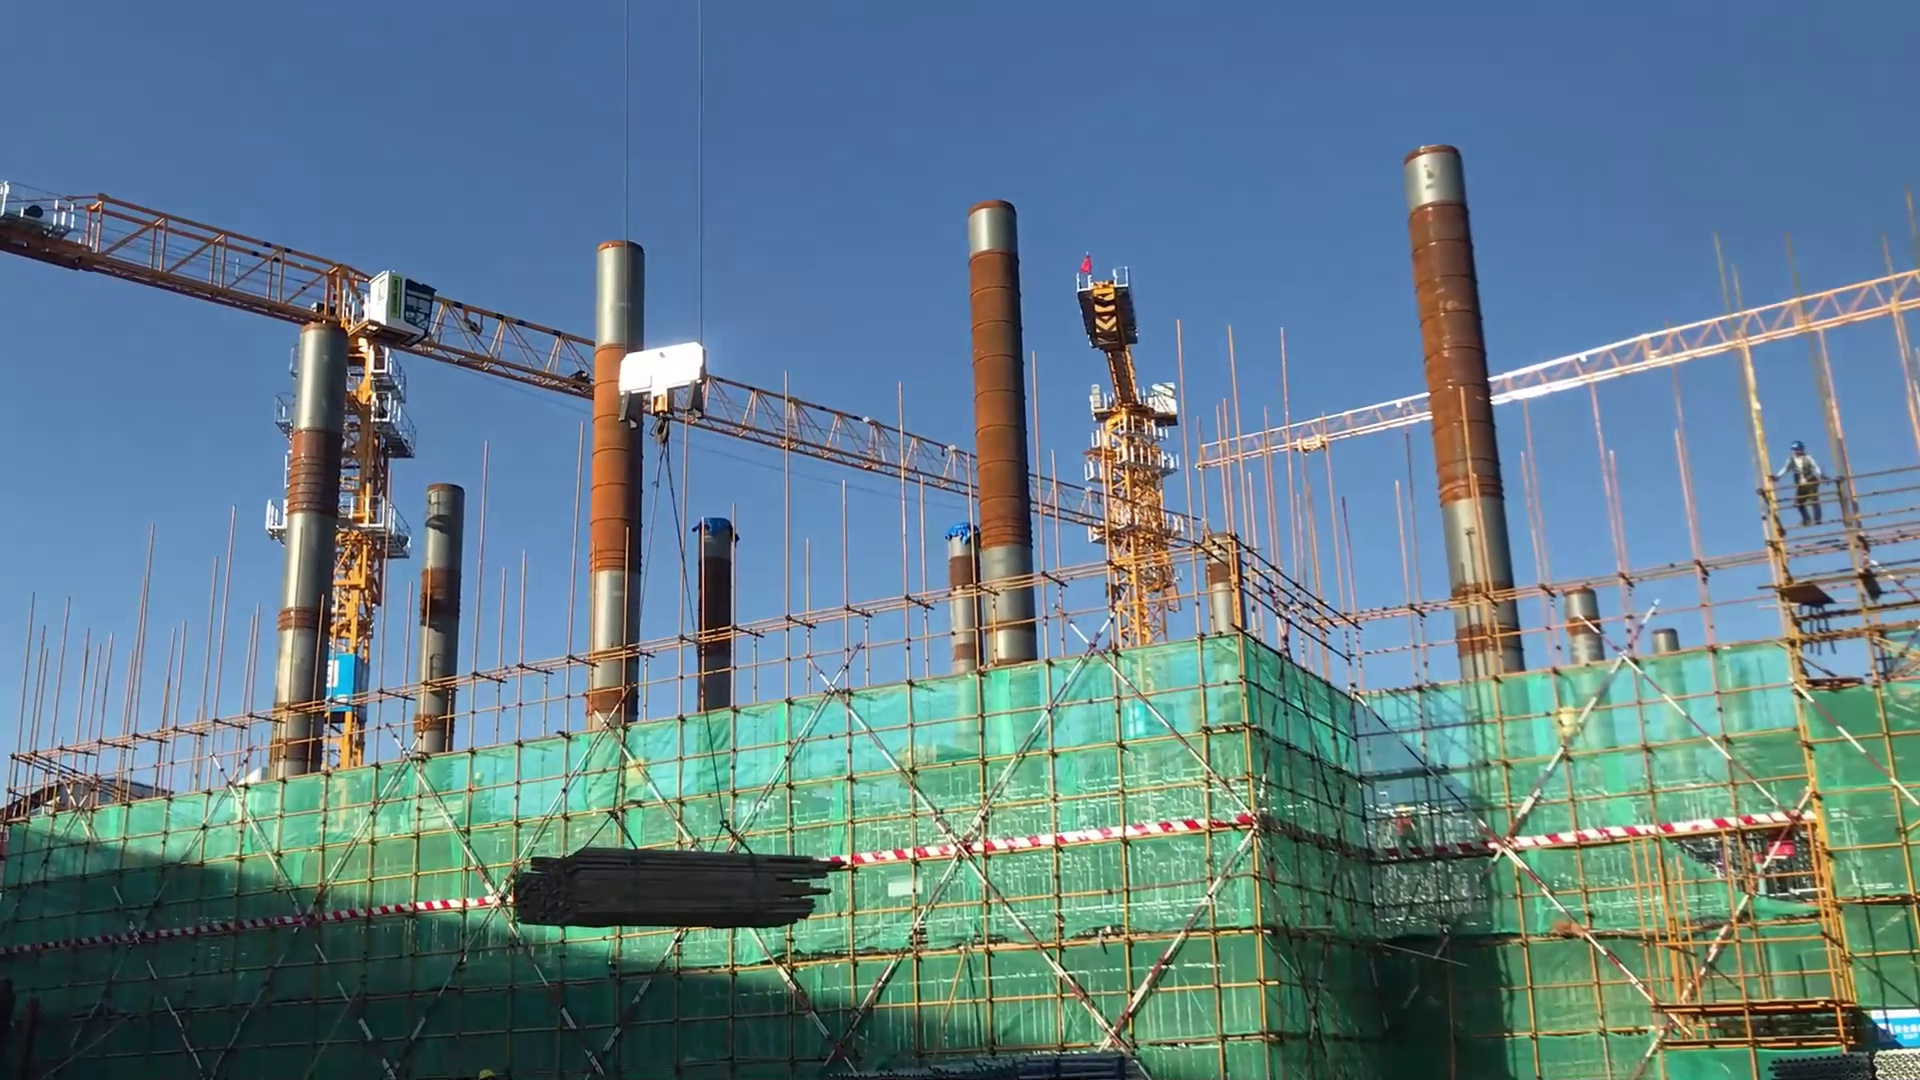helmet: (1791, 437, 1811, 455)
hook: (618, 338, 705, 431)
person: (1766, 438, 1830, 538)
vest: (1785, 453, 1817, 495)
wood: (507, 850, 836, 926)
